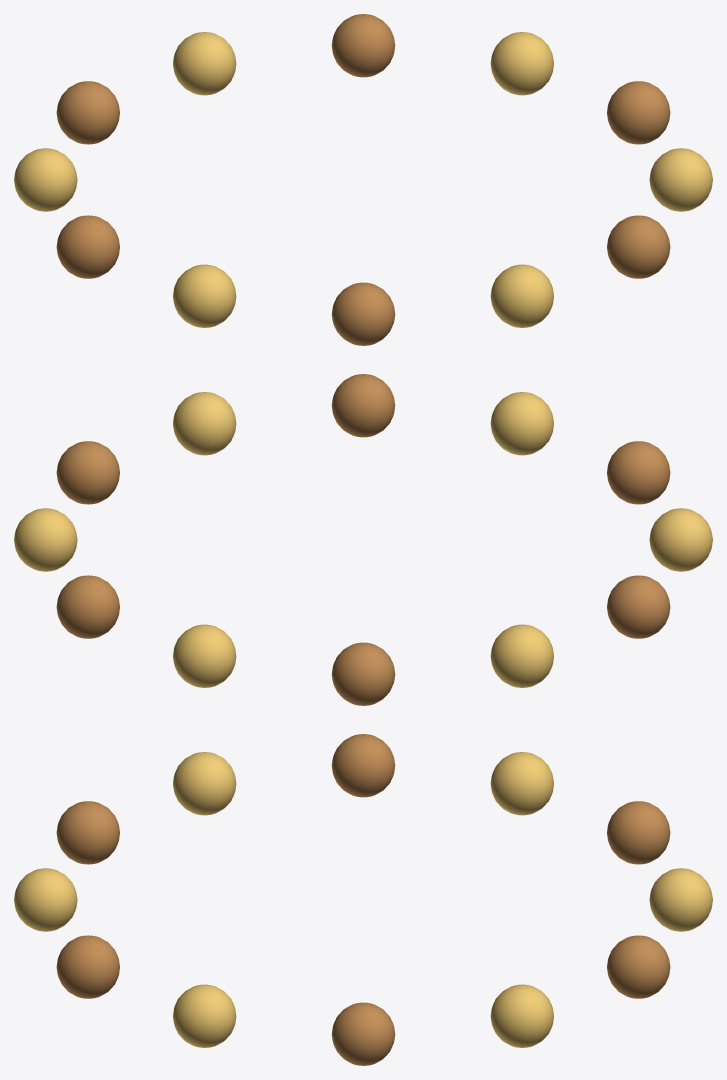
The model's file is colar.glb.
The picture shows the model from 3 angles, top to bottom: view 1: azimuth 30°, elevation 25°; view 2: azimuth 150°, elevation 25°; view 3: azimuth 270°, elevation 25°; orthographic projection.
Parts seen in each view (by area): view 1: Conta.001, Conta.007, Conta, Conta.002, Conta.006, Conta.008, Conta.004, Conta.010, Conta.003, Conta.005, Conta.009, Conta.011; view 2: Conta.005, Conta.011, Conta, Conta.004, Conta.006, Conta.010, Conta.002, Conta.008, Conta.001, Conta.003, Conta.007, Conta.009; view 3: Conta.003, Conta.009, Conta.002, Conta.004, Conta.008, Conta.010, Conta, Conta.006, Conta.001, Conta.005, Conta.007, Conta.011.
Part boxes in pixels (box(x1,y1,x2,y2)): Conta.001: box(649, 148, 712, 211); Conta.007: box(14, 148, 77, 211); Conta: box(607, 81, 670, 144); Conta.002: box(607, 215, 670, 278); Conta.006: box(56, 215, 119, 278); Conta.008: box(56, 81, 119, 144); Conta.004: box(331, 282, 395, 345); Conta.010: box(331, 14, 395, 77); Conta.003: box(490, 264, 553, 327); Conta.005: box(173, 264, 236, 327); Conta.009: box(173, 32, 236, 95); Conta.011: box(490, 32, 553, 95); Conta.005: box(649, 508, 712, 571); Conta.011: box(14, 508, 77, 571); Conta: box(56, 441, 119, 504); Conta.004: box(607, 441, 670, 504); Conta.006: box(607, 575, 670, 638); Conta.010: box(56, 575, 119, 638); Conta.002: box(331, 374, 395, 437); Conta.008: box(331, 642, 395, 705); Conta.001: box(173, 392, 236, 455); Conta.003: box(490, 392, 553, 455); Conta.007: box(490, 624, 553, 687); Conta.009: box(173, 624, 236, 687); Conta.003: box(14, 868, 77, 931); Conta.009: box(649, 868, 712, 931); Conta.002: box(56, 935, 119, 998); Conta.004: box(56, 801, 119, 864); Conta.008: box(607, 801, 670, 864); Conta.010: box(607, 935, 670, 998); Conta: box(331, 1002, 395, 1065); Conta.006: box(331, 734, 395, 797); Conta.001: box(173, 984, 236, 1047); Conta.005: box(173, 752, 236, 815); Conta.007: box(490, 752, 553, 815); Conta.011: box(490, 984, 553, 1047).
Bounding box in the file's own units: 2.2 × 0.2 × 2.2.
